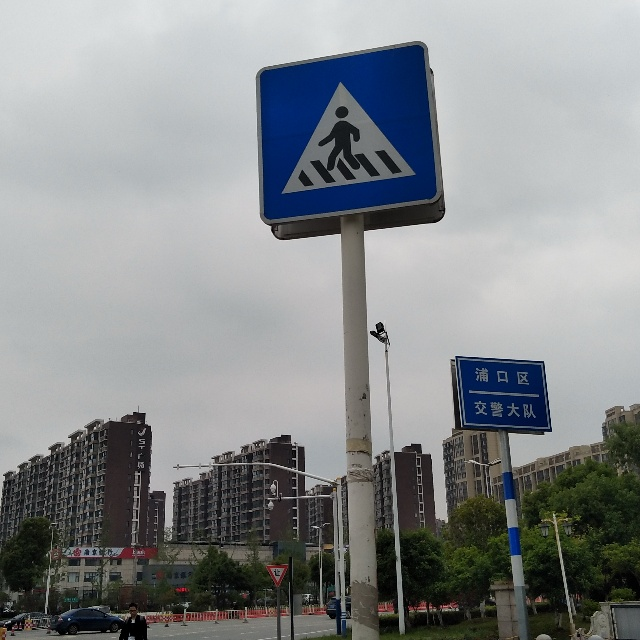crosswalk: (256, 42, 439, 220)
